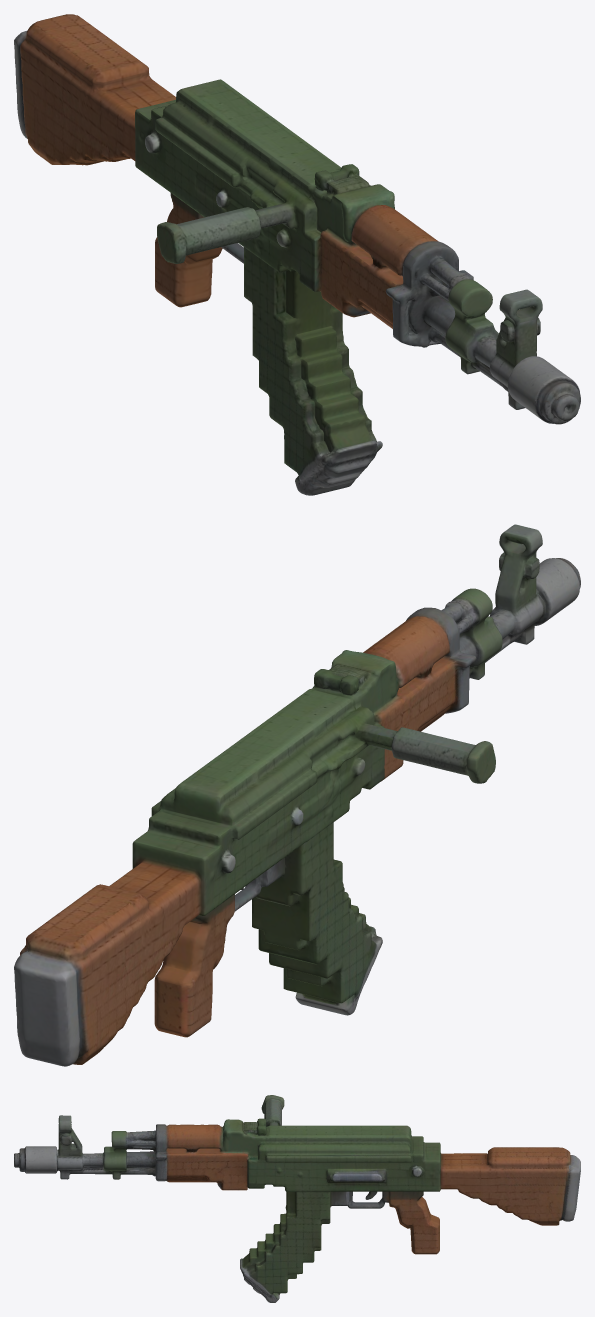
3 views of the same model, one above another, from view 1: azimuth 30°, elevation 25°; view 2: azimuth 150°, elevation 25°; view 3: azimuth 270°, elevation 25° (orthographic). The views are drawn at different scales.
Parts seen in each view (by area): view 1: tripo_node_f3855a8c-8f9e-423a-ba9c-32efad555d48; view 2: tripo_node_f3855a8c-8f9e-423a-ba9c-32efad555d48; view 3: tripo_node_f3855a8c-8f9e-423a-ba9c-32efad555d48.
Part boxes in pixels (box(x1,y1,x2,y2)): tripo_node_f3855a8c-8f9e-423a-ba9c-32efad555d48: box(14, 14, 580, 495); tripo_node_f3855a8c-8f9e-423a-ba9c-32efad555d48: box(14, 524, 580, 1066); tripo_node_f3855a8c-8f9e-423a-ba9c-32efad555d48: box(14, 1095, 580, 1302).
Bounding box in the file's own units: 0.2311 × 0.3482 × 1.
Materials: 1 (1 with a texture image).
